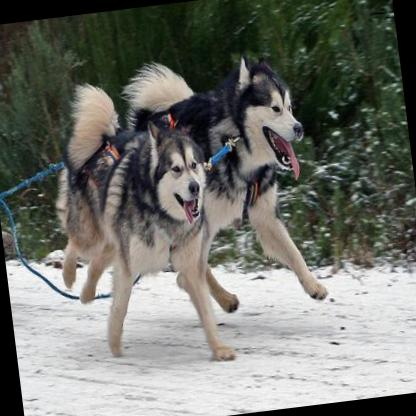malamute: (38, 68, 245, 379), (117, 41, 330, 322)
